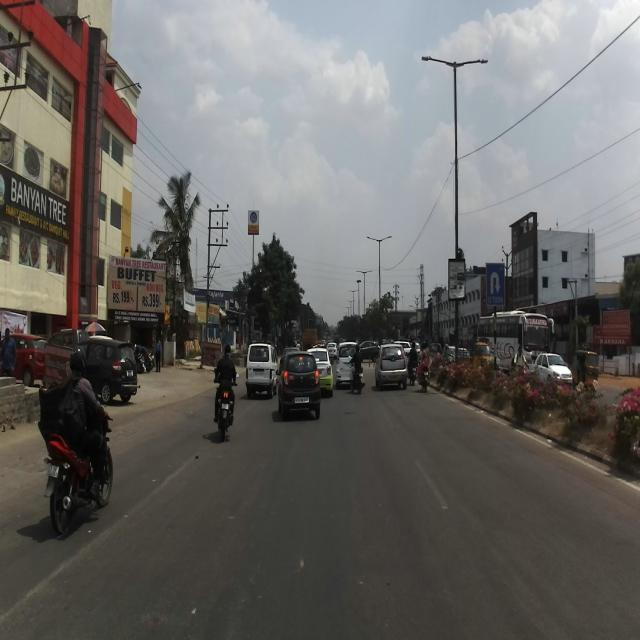Car_Maruti-Suzuki: (76, 338, 140, 406), (275, 350, 322, 422), (244, 340, 277, 398), (333, 341, 362, 388)
Car_TATA: (374, 343, 407, 390), (533, 352, 572, 388)
autorickshaw: (456, 340, 493, 372)
bus: (475, 309, 554, 379)
motorcycle_Hero: (37, 414, 114, 531)
motorcycle_bajaj: (212, 366, 238, 441)
